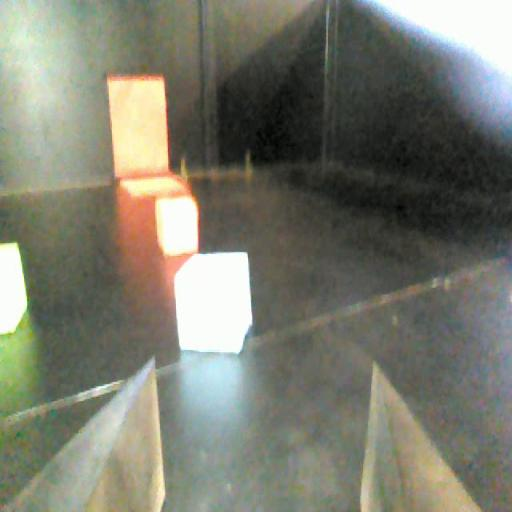cube: (170, 248, 256, 362), (151, 192, 202, 255), (0, 240, 30, 338)
